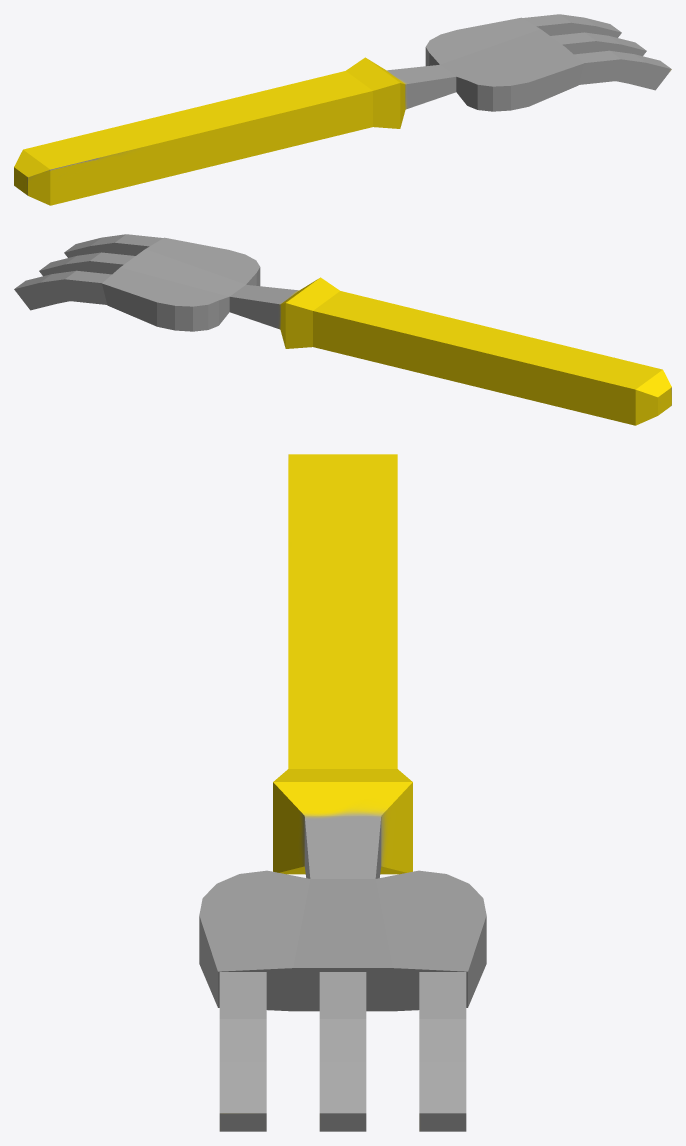
File: fork.fbx
3 views of the same model, one above another, from view 1: azimuth 30°, elevation 25°; view 2: azimuth 150°, elevation 25°; view 3: azimuth 270°, elevation 25° (orthographic). The views are drawn at different scales.
Visible parts, largest first — view 1: fork; view 2: fork; view 3: fork.
Boxes of the visible parts, left/top/right/bottom form: fork: left=14, top=14, right=671, bottom=205; fork: left=14, top=234, right=671, bottom=425; fork: left=199, top=454, right=486, bottom=1131.
Size of the model in its own units: 41.2 by 3.6 by 8.27.
Materials: 1 (1 with a texture image).
